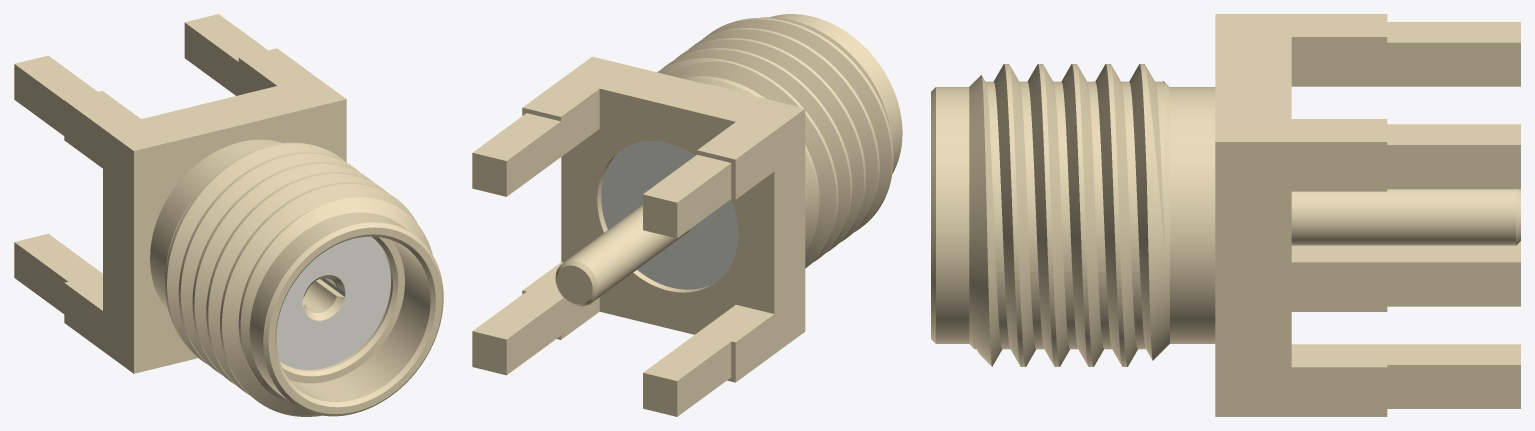
The model's file is SMA_Amphenol_132134-11_Vertical.glb.
3 views of the same model, side by side, from view 1: azimuth 30°, elevation 25°; view 2: azimuth 150°, elevation 25°; view 3: azimuth 270°, elevation 25° (orthographic). The views are drawn at different scales.
Parts seen in each view (by area): view 1: Shape_IndexedFaceSet.007, Shape_IndexedFaceSet.008, Shape_IndexedFaceSet.069, Shape_IndexedFaceSet, Shape_IndexedFaceSet.056, Shape_IndexedFaceSet.065, Shape_IndexedFaceSet.059, Shape_IndexedFaceSet.063, Shape_IndexedFaceSet.024, Shape_IndexedFaceSet.048, Shape_IndexedFaceSet.052, Shape_IndexedFaceSet.038 (+21 smaller); view 2: Shape_IndexedFaceSet.003, Shape_IndexedFaceSet.008, Shape_IndexedFaceSet, Shape_IndexedFaceSet.032, Shape_IndexedFaceSet.035, Shape_IndexedFaceSet.034, Shape_IndexedFaceSet.041, Shape_IndexedFaceSet.046, Shape_IndexedFaceSet.054, Shape_IndexedFaceSet.050, Shape_IndexedFaceSet.004, Shape_IndexedFaceSet.013 (+22 smaller); view 3: Shape_IndexedFaceSet.006, Shape_IndexedFaceSet, Shape_IndexedFaceSet.034, Shape_IndexedFaceSet.024, Shape_IndexedFaceSet.002, Shape_IndexedFaceSet.014, Shape_IndexedFaceSet.061, Shape_IndexedFaceSet.022, Shape_IndexedFaceSet.031, Shape_IndexedFaceSet.017, Shape_IndexedFaceSet.059, Shape_IndexedFaceSet.033 (+27 smaller).
Part boxes in pixels (x1,y1,x2,y2): Shape_IndexedFaceSet.007: (134, 99, 346, 373); Shape_IndexedFaceSet.008: (64, 100, 133, 373); Shape_IndexedFaceSet.069: (276, 236, 390, 369); Shape_IndexedFaceSet: (64, 48, 346, 150); Shape_IndexedFaceSet.056: (222, 183, 417, 415); Shape_IndexedFaceSet.065: (290, 240, 430, 402); Shape_IndexedFaceSet.059: (240, 197, 432, 416); Shape_IndexedFaceSet.063: (268, 227, 442, 414); Shape_IndexedFaceSet.024: (150, 139, 282, 310); Shape_IndexedFaceSet.048: (194, 163, 372, 384); Shape_IndexedFaceSet.052: (208, 173, 387, 394); Shape_IndexedFaceSet.038: (167, 143, 345, 364); Shape_IndexedFaceSet.003: (561, 89, 774, 334); Shape_IndexedFaceSet.008: (735, 109, 805, 382); Shape_IndexedFaceSet: (523, 56, 804, 159); Shape_IndexedFaceSet.032: (601, 141, 738, 289); Shape_IndexedFaceSet.035: (667, 61, 836, 268); Shape_IndexedFaceSet.034: (565, 204, 690, 301); Shape_IndexedFaceSet.041: (661, 49, 850, 262); Shape_IndexedFaceSet.046: (674, 39, 863, 251); Shape_IndexedFaceSet.054: (702, 19, 891, 231); Shape_IndexedFaceSet.050: (688, 29, 877, 242); Shape_IndexedFaceSet.004: (506, 89, 599, 196); Shape_IndexedFaceSet.013: (643, 305, 773, 380); Shape_IndexedFaceSet.006: (1215, 142, 1387, 416); Shape_IndexedFaceSet: (1215, 14, 1387, 141); Shape_IndexedFaceSet.034: (1291, 189, 1515, 245); Shape_IndexedFaceSet.024: (1170, 87, 1215, 343); Shape_IndexedFaceSet.002: (1291, 37, 1520, 86); Shape_IndexedFaceSet.014: (1291, 262, 1520, 311); Shape_IndexedFaceSet.061: (936, 87, 969, 343); Shape_IndexedFaceSet.022: (1387, 145, 1520, 189); Shape_IndexedFaceSet.031: (1387, 365, 1520, 408); Shape_IndexedFaceSet.017: (1291, 344, 1520, 367); Shape_IndexedFaceSet.059: (969, 75, 991, 366); Shape_IndexedFaceSet.033: (1147, 79, 1169, 360).
Size of the model in its own units: 2.5 by 2.5 by 4.86.
